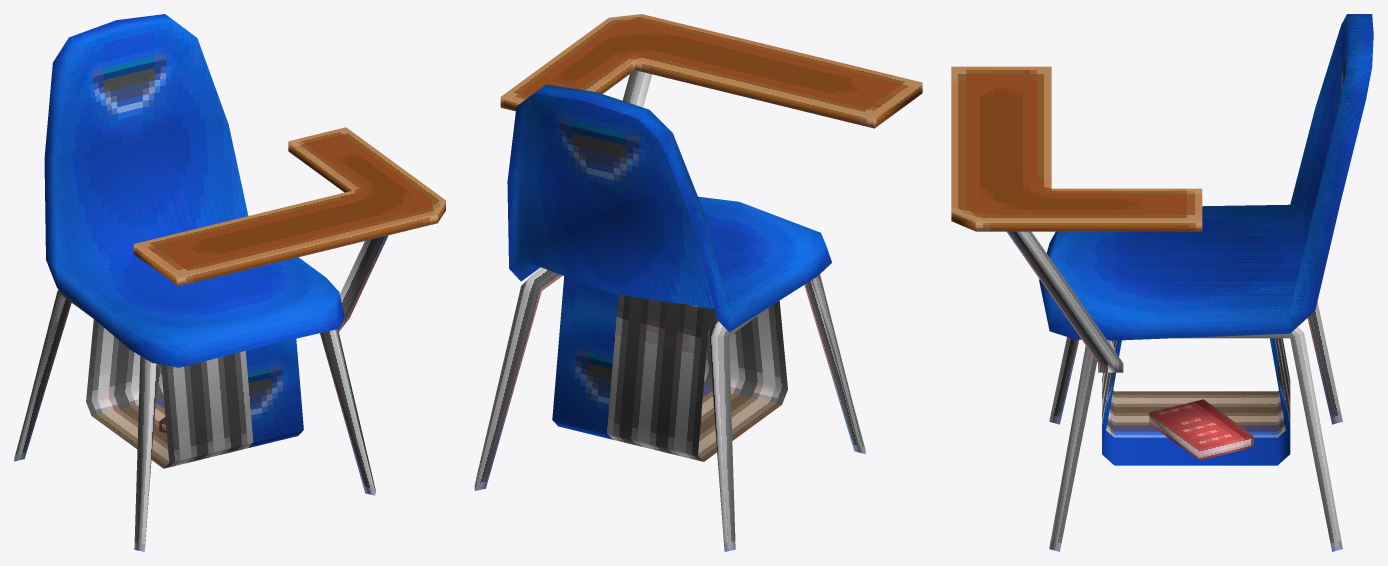
The model's file is rmk_scx_chairS_l.dae.
3 views of the same model, side by side, from view 1: azimuth 30°, elevation 25°; view 2: azimuth 150°, elevation 25°; view 3: azimuth 270°, elevation 25° (orthographic). The views are drawn at different scales.
Visible parts, largest first — view 1: rmk_scx_chairS_l; view 2: rmk_scx_chairS_l; view 3: rmk_scx_chairS_l.
Part boxes in pixels (x1,y1,x2,y2): rmk_scx_chairS_l: (14, 14, 445, 551); rmk_scx_chairS_l: (474, 14, 922, 551); rmk_scx_chairS_l: (951, 14, 1373, 551).
Bounding box in the file's own units: 23.2 × 31.68 × 26.93.
Materials: 1 (1 with a texture image).
